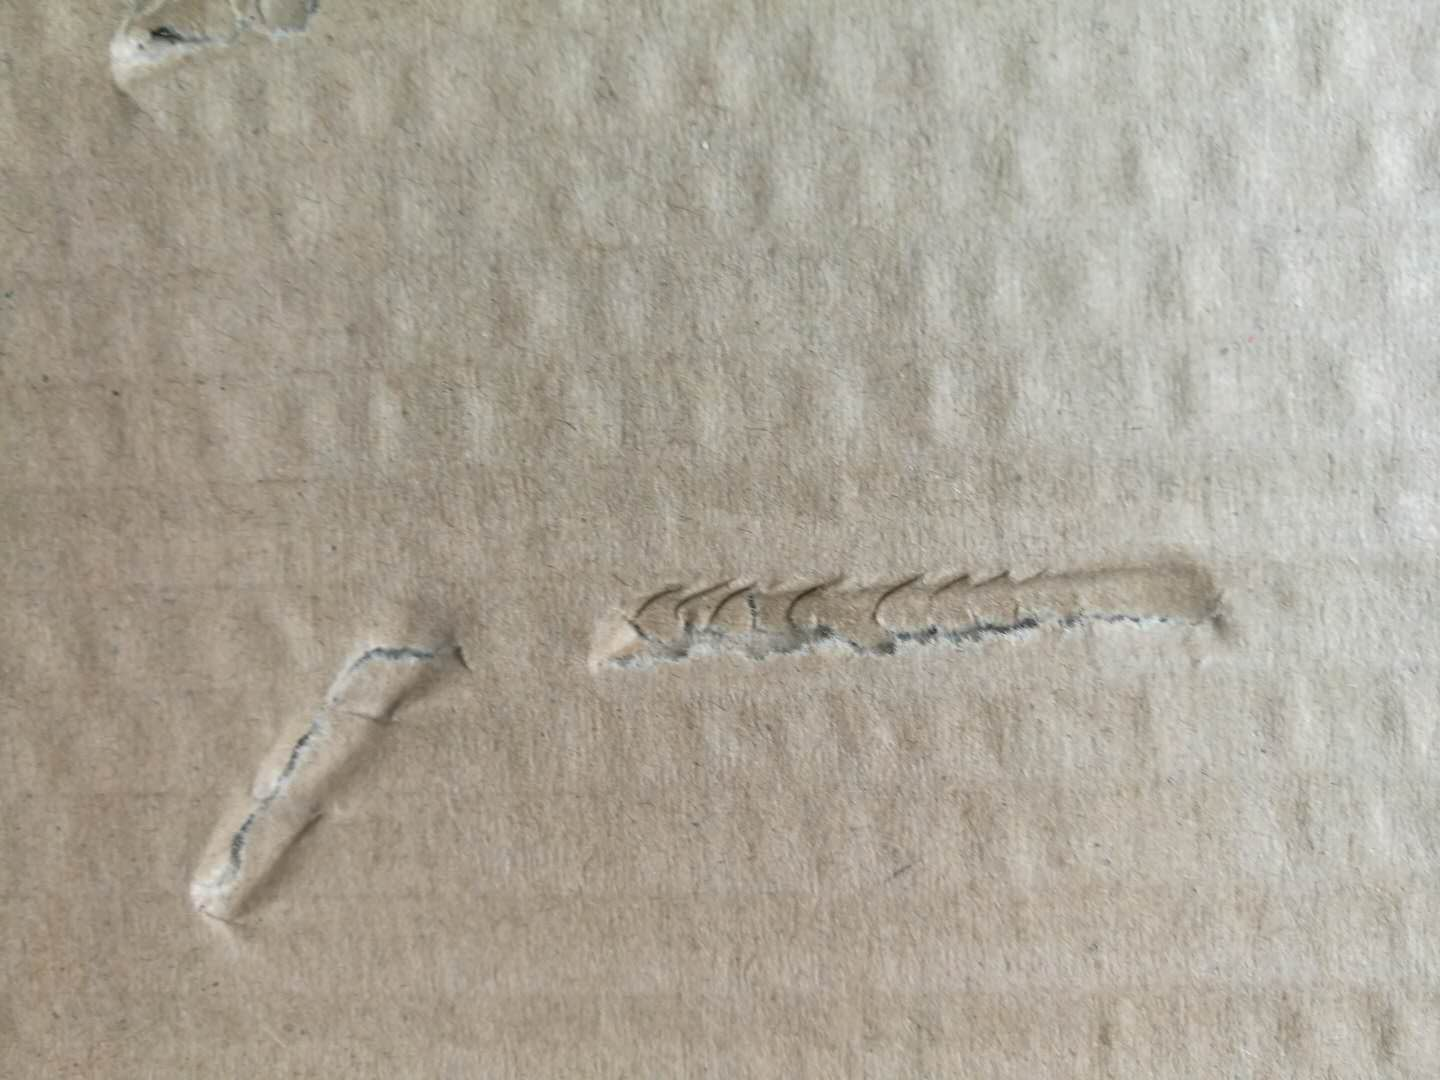defect: (558, 525, 1285, 723), (154, 588, 511, 957), (85, 2, 366, 118)
